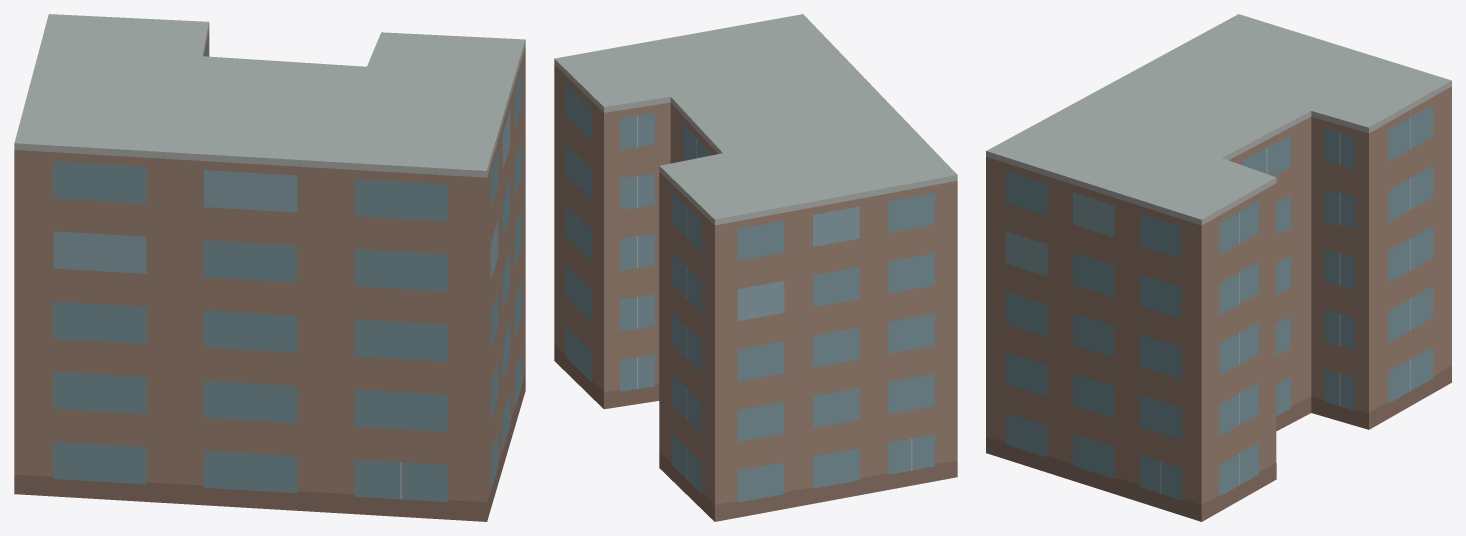
Rendered from survey-upis-32657009.glb.
3 views of the same model, side by side, from view 1: azimuth 30°, elevation 25°; view 2: azimuth 150°, elevation 25°; view 3: azimuth 270°, elevation 25° (orthographic). The views are drawn at different scales.
Parts seen in each view (by area): view 1: survey-upis-32657009.tmp; view 2: survey-upis-32657009.tmp; view 3: survey-upis-32657009.tmp.
Part boxes in pixels (x1,y1,x2,y2): survey-upis-32657009.tmp: [14, 14, 525, 521]; survey-upis-32657009.tmp: [554, 14, 957, 521]; survey-upis-32657009.tmp: [986, 14, 1451, 521].
Size of the model in its own units: 18.78 by 12.85 by 17.96.
